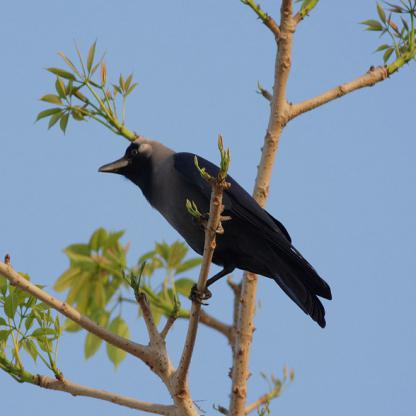Burung: (98, 139, 331, 327)
